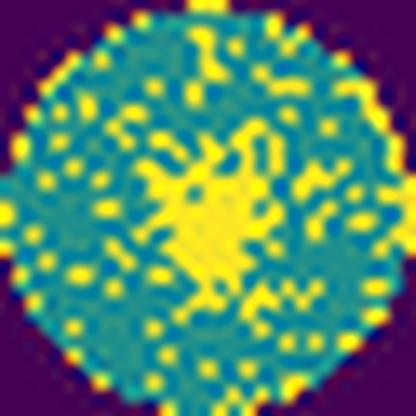Center: (138, 119, 292, 321)
